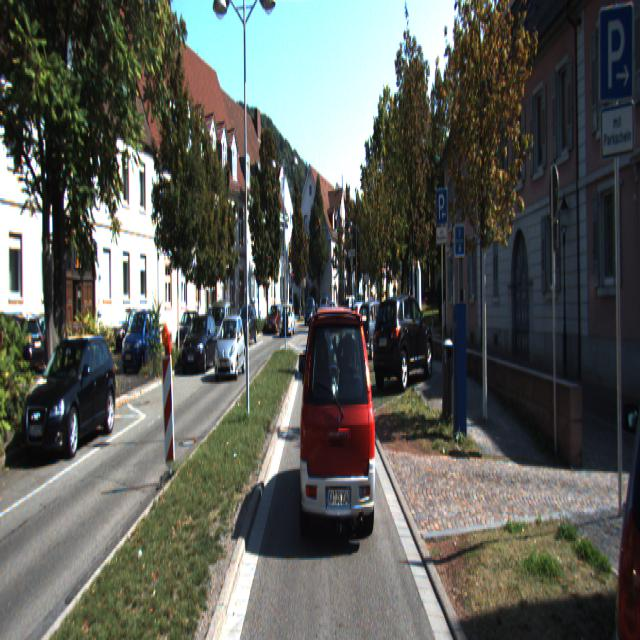Car: (300, 304, 379, 550), (18, 335, 118, 464), (612, 309, 640, 638), (372, 293, 436, 392), (120, 310, 160, 373), (356, 299, 394, 361), (181, 313, 219, 375), (214, 315, 246, 383), (112, 309, 156, 355), (206, 301, 233, 363), (345, 302, 379, 348), (236, 306, 258, 346), (265, 306, 286, 336), (280, 302, 296, 336), (304, 297, 316, 326)
